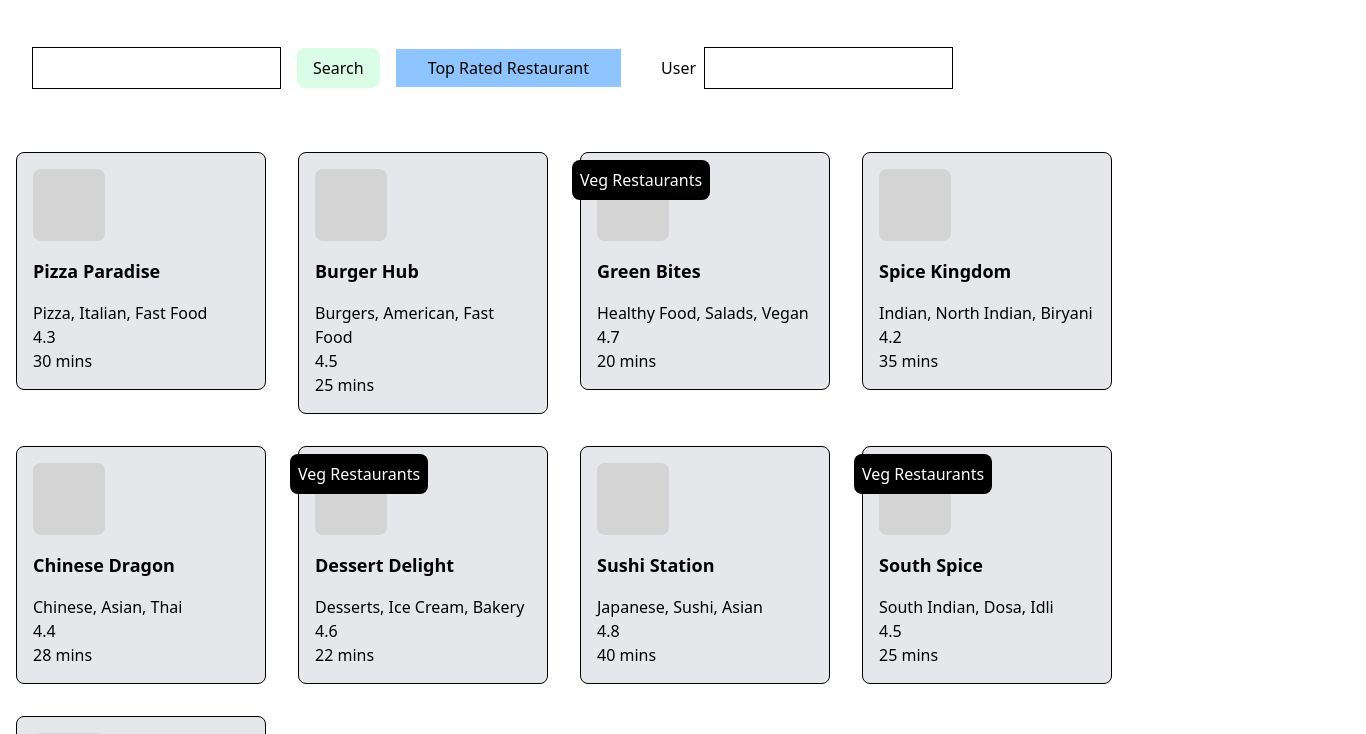
Test: should render the body component with Search button
This screenshot has width=1366, height=734.
Type "burger" into the field with test id "searchInput".
click(156, 68); type("burger")  # box [32,47,281,89]
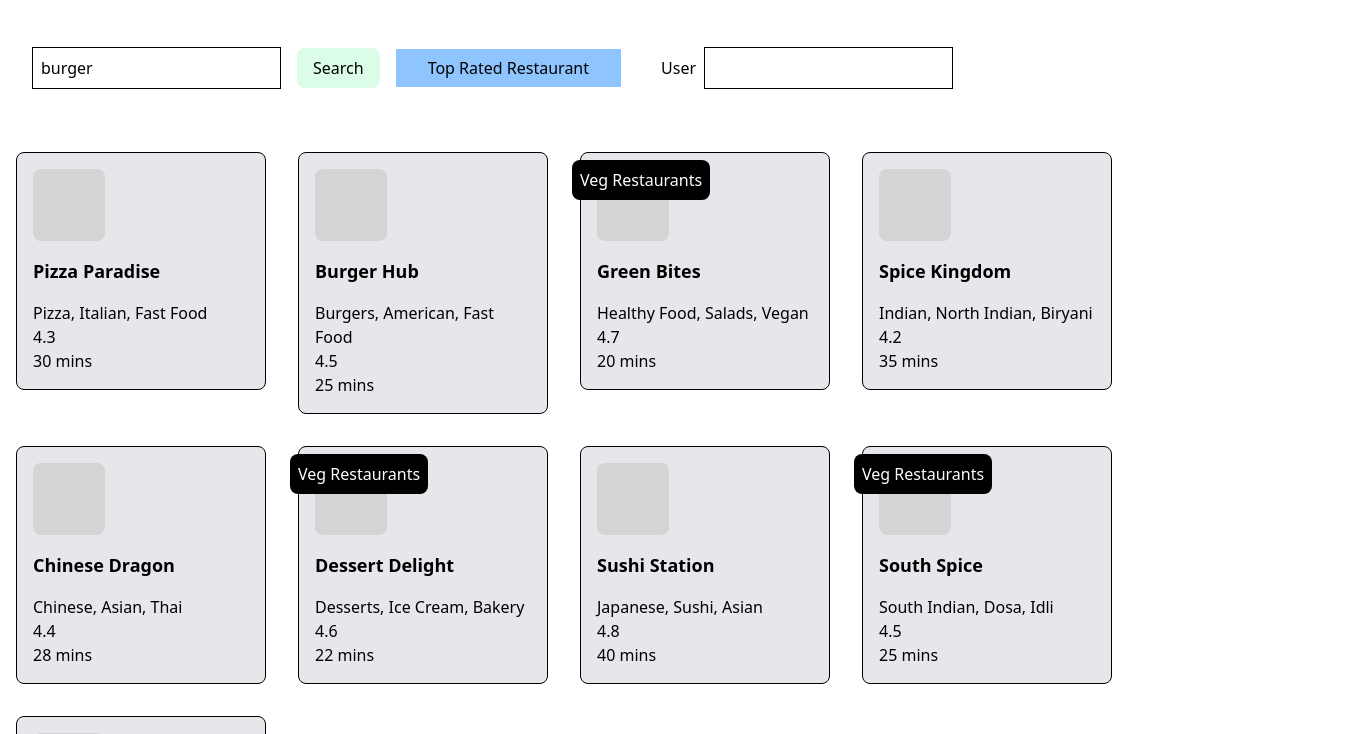
Click the button "Search".
click(338, 68)  # box [297,48,380,88]
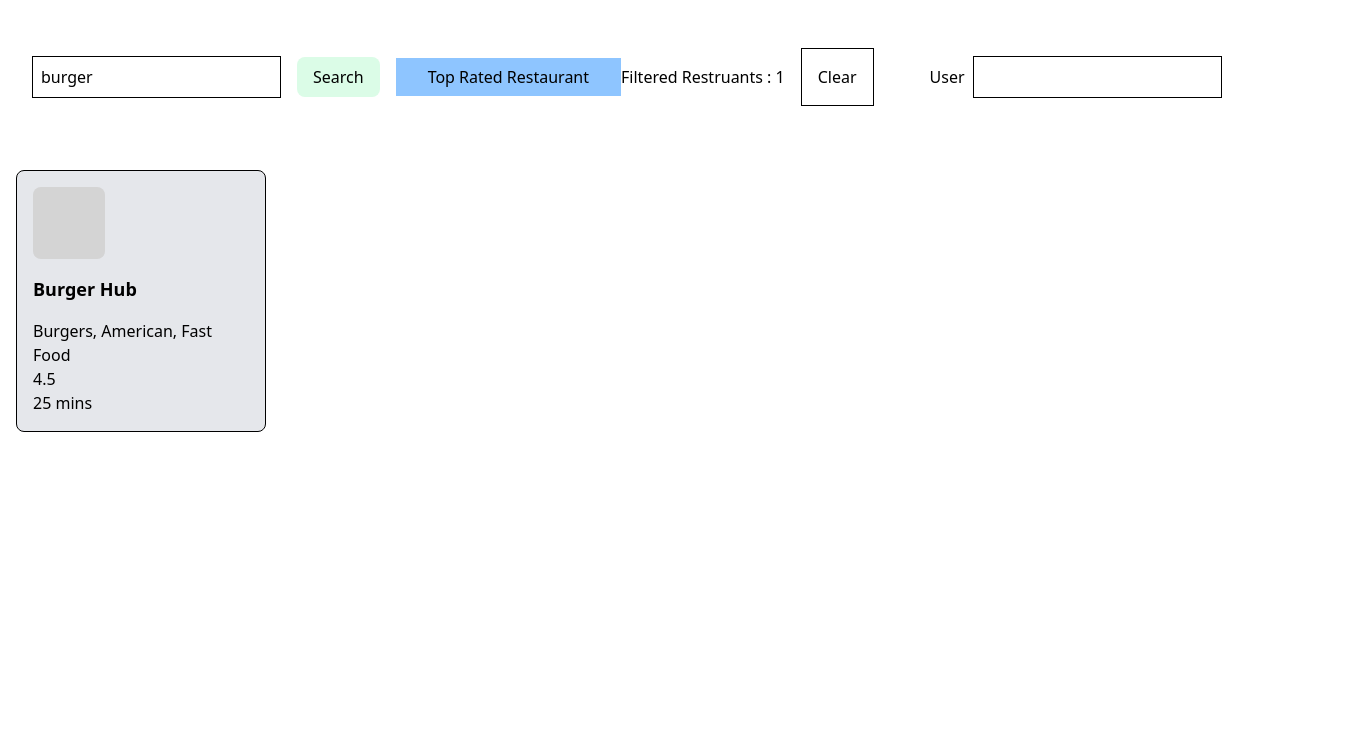
Expected: the button "Search" is shown, [297,57,380,97]
Expected: the number of elements with test id "resCard" is 1, [16,170,266,432]
